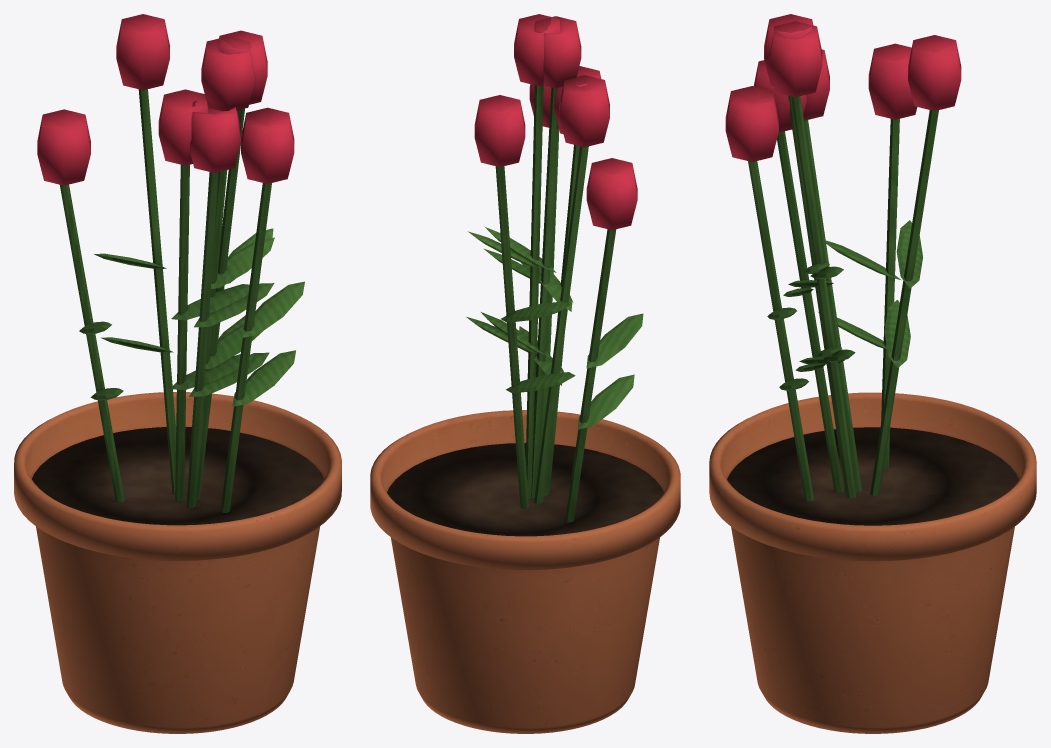
Rendered from red-tulips.glb.
3 renders of one model, left to right at view 1: azimuth 30°, elevation 25°; view 2: azimuth 150°, elevation 25°; view 3: azimuth 270°, elevation 25°, orthographic. The views are drawn at different scales.
Visible parts, largest first — view 1: terracotta, flower_stem, petals, soil; view 2: terracotta, flower_stem, soil, petals; view 3: terracotta, flower_stem, soil, petals.
Boxes of the visible parts, left/top/right/bottom form: terracotta: left=14, top=392, right=341, bottom=733; flower_stem: left=60, top=89, right=304, bottom=512; petals: left=37, top=14, right=294, bottom=185; soil: left=32, top=427, right=324, bottom=525; terracotta: left=370, top=410, right=680, bottom=733; flower_stem: left=466, top=85, right=643, bottom=522; soil: left=387, top=443, right=663, bottom=536; petals: left=474, top=14, right=637, bottom=230; terracotta: left=709, top=392, right=1036, bottom=733; flower_stem: left=748, top=95, right=938, bottom=501; soil: left=727, top=427, right=1018, bottom=525; petals: left=725, top=14, right=961, bottom=161.
Bounding box in the file's own units: 0.212 × 0.4767 × 0.212.
4 materials, 4 textured.
